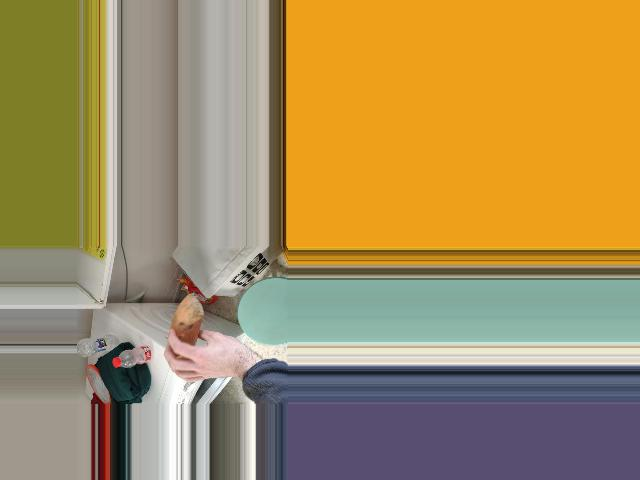sweet_potato: (171, 296, 202, 365)
